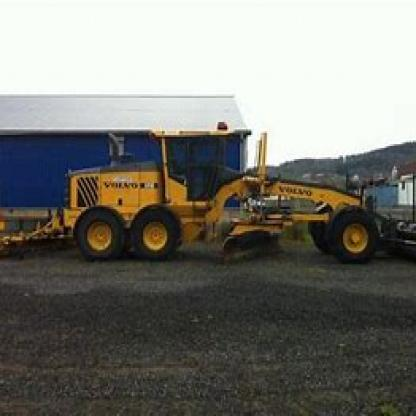bull_dozer/loader/grader: (46, 121, 394, 278)
